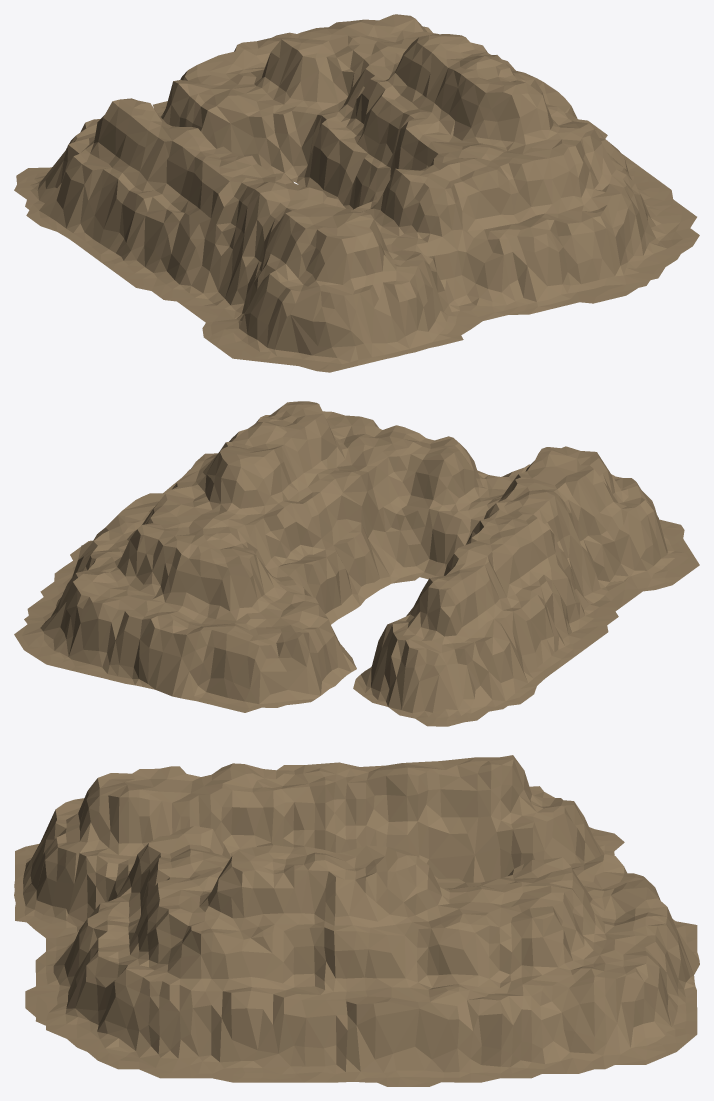
Rendered from LargeTerrain02.fbx.
The picture shows the model from 3 angles, top to bottom: view 1: azimuth 30°, elevation 25°; view 2: azimuth 150°, elevation 25°; view 3: azimuth 270°, elevation 25°; orthographic projection. The views are drawn at different scales.
Parts seen in each view (by area): view 1: LargeTerrain02; view 2: LargeTerrain02; view 3: LargeTerrain02.
Part boxes in pixels (left/top/right/bottom): LargeTerrain02: left=14, top=14, right=699, bottom=372; LargeTerrain02: left=14, top=401, right=699, bottom=726; LargeTerrain02: left=14, top=755, right=699, bottom=1086.
Bounding box in the file's own units: 84.55 × 21.69 × 90.5.
